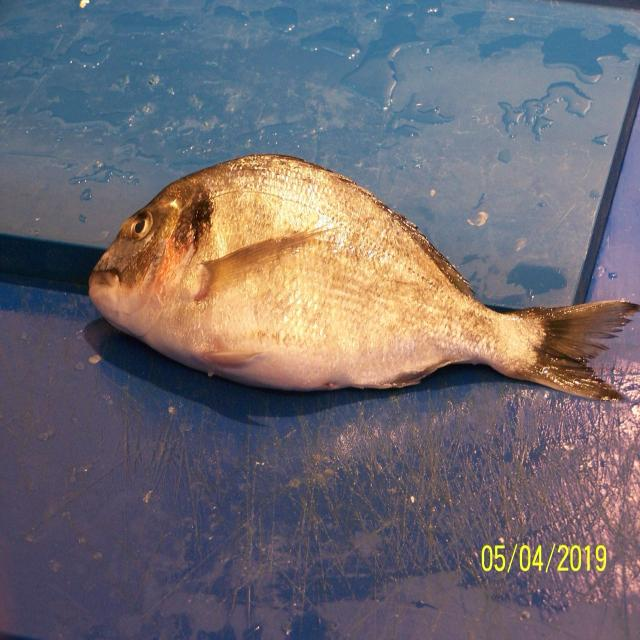Gilt-Head-Bream-c-ipura-: (86, 154, 640, 404)
